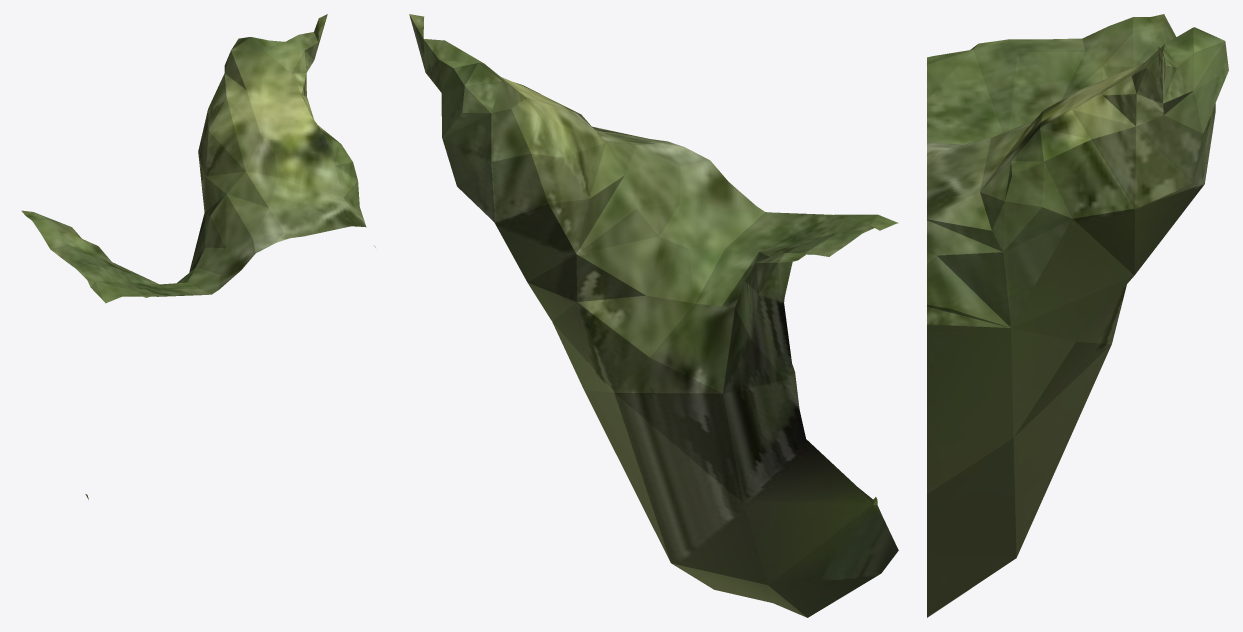
The picture shows the model from 3 angles, left to right: view 1: azimuth 30°, elevation 25°; view 2: azimuth 150°, elevation 25°; view 3: azimuth 270°, elevation 25°; orthographic projection. The views are drawn at different scales.
Bounding box in the file's own units: 1.27 × 1.93 × 0.7764.
Materials: 1 (1 with a texture image).
